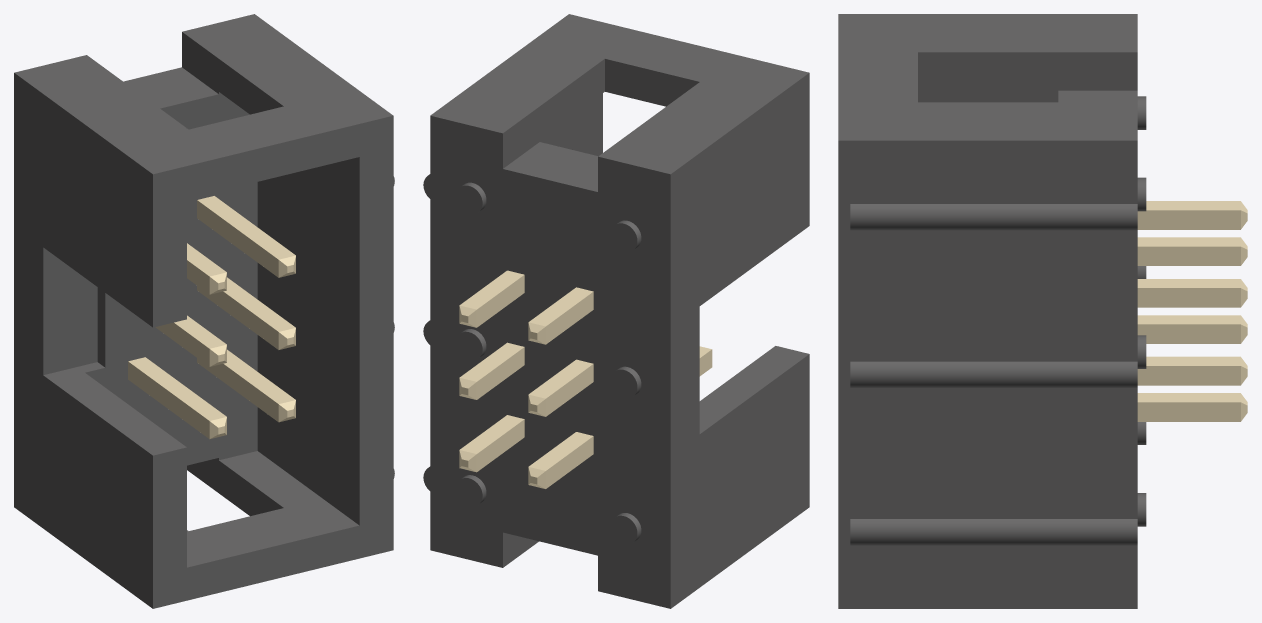
Rendered from IDC-Header_2x03_P2.54mm_Vertical.glb.
3 views of the same model, side by side, from view 1: azimuth 30°, elevation 25°; view 2: azimuth 150°, elevation 25°; view 3: azimuth 270°, elevation 25° (orthographic). The views are drawn at different scales.
Parts seen in each view (by area): view 1: Shape_IndexedFaceSet, Shape_IndexedFaceSet.002, Shape_IndexedFaceSet.014, Shape_IndexedFaceSet.001, Shape_IndexedFaceSet.017, Shape_IndexedFaceSet.013, Shape_IndexedFaceSet.004, Shape_IndexedFaceSet.005, Shape_IndexedFaceSet.011, Shape_IndexedFaceSet.019, Shape_IndexedFaceSet.026, Shape_IndexedFaceSet.099 (+11 smaller); view 2: Shape_IndexedFaceSet.007, Shape_IndexedFaceSet, Shape_IndexedFaceSet.001, Shape_IndexedFaceSet.011, Shape_IndexedFaceSet.005, Shape_IndexedFaceSet.026, Shape_IndexedFaceSet.010, Shape_IndexedFaceSet.014, Shape_IndexedFaceSet.043, Shape_IndexedFaceSet.047, Shape_IndexedFaceSet.113, Shape_IndexedFaceSet.099 (+15 smaller); view 3: Shape_IndexedFaceSet.008, Shape_IndexedFaceSet.001, Shape_IndexedFaceSet.009, Shape_IndexedFaceSet.023, Shape_IndexedFaceSet.024, Shape_IndexedFaceSet.025, Shape_IndexedFaceSet.016, Shape_IndexedFaceSet.074, Shape_IndexedFaceSet.088, Shape_IndexedFaceSet.102, Shape_IndexedFaceSet.060, Shape_IndexedFaceSet.046 (+8 smaller).
Boxes of the visible parts, x1,y1,x2,y2 form: Shape_IndexedFaceSet: (14, 73, 152, 608); Shape_IndexedFaceSet.002: (153, 115, 393, 608); Shape_IndexedFaceSet.014: (257, 157, 359, 525); Shape_IndexedFaceSet.001: (14, 14, 392, 174); Shape_IndexedFaceSet.017: (85, 92, 257, 465); Shape_IndexedFaceSet.013: (187, 451, 358, 567); Shape_IndexedFaceSet.004: (43, 247, 97, 374); Shape_IndexedFaceSet.005: (43, 362, 186, 455); Shape_IndexedFaceSet.011: (182, 32, 283, 114); Shape_IndexedFaceSet.019: (187, 458, 283, 516); Shape_IndexedFaceSet.026: (123, 67, 218, 108); Shape_IndexedFaceSet.099: (197, 200, 278, 277); Shape_IndexedFaceSet.007: (423, 115, 670, 608); Shape_IndexedFaceSet: (670, 73, 809, 608); Shape_IndexedFaceSet.001: (430, 14, 808, 174); Shape_IndexedFaceSet.011: (503, 59, 604, 168); Shape_IndexedFaceSet.005: (699, 346, 808, 433); Shape_IndexedFaceSet.026: (503, 142, 597, 191); Shape_IndexedFaceSet.010: (605, 59, 699, 106); Shape_IndexedFaceSet.014: (539, 93, 602, 156); Shape_IndexedFaceSet.043: (546, 349, 712, 488); Shape_IndexedFaceSet.047: (529, 346, 711, 470); Shape_IndexedFaceSet.113: (476, 347, 524, 399); Shape_IndexedFaceSet.099: (476, 275, 524, 327); Shape_IndexedFaceSet.008: (838, 140, 1137, 608); Shape_IndexedFaceSet.001: (838, 14, 1137, 140); Shape_IndexedFaceSet.009: (918, 52, 1137, 90); Shape_IndexedFaceSet.023: (850, 519, 1137, 545); Shape_IndexedFaceSet.024: (850, 361, 1137, 387); Shape_IndexedFaceSet.025: (850, 204, 1137, 230); Shape_IndexedFaceSet.016: (918, 87, 1058, 102); Shape_IndexedFaceSet.074: (1137, 288, 1240, 307); Shape_IndexedFaceSet.088: (1137, 402, 1240, 421); Shape_IndexedFaceSet.102: (1137, 246, 1240, 265); Shape_IndexedFaceSet.060: (1137, 210, 1240, 229); Shape_IndexedFaceSet.046: (1137, 366, 1240, 385).
Size of the model in its own units: 3.58 by 6.02 by 4.76.
